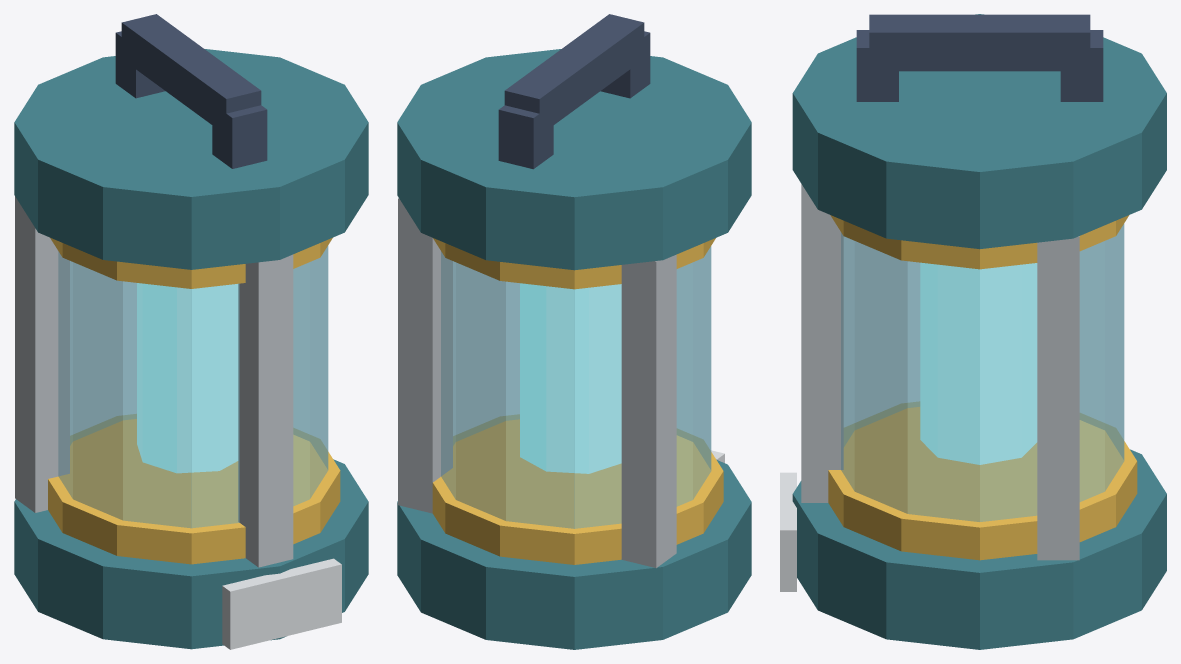
File: standard_capsule.glb
3 renders of one model, left to right at view 1: azimuth 30°, elevation 25°; view 2: azimuth 150°, elevation 25°; view 3: azimuth 270°, elevation 25°, orthographic. The views are drawn at different scales.
Parts seen in each view (by area): view 1: DL004_StandardCapsule_teal_shell, DL004_StandardCapsule_glass_cyan, DL004_StandardCapsule_titanium, DL004_StandardCapsule_amber_accent, DL004_StandardCapsule_emissive_cyan, DL004_StandardCapsule_graphite_navy, DL004_StandardCapsule_hull_offwhite; view 2: DL004_StandardCapsule_teal_shell, DL004_StandardCapsule_glass_cyan, DL004_StandardCapsule_titanium, DL004_StandardCapsule_amber_accent, DL004_StandardCapsule_emissive_cyan, DL004_StandardCapsule_graphite_navy; view 3: DL004_StandardCapsule_teal_shell, DL004_StandardCapsule_glass_cyan, DL004_StandardCapsule_amber_accent, DL004_StandardCapsule_titanium, DL004_StandardCapsule_emissive_cyan, DL004_StandardCapsule_graphite_navy, DL004_StandardCapsule_hull_offwhite.
Part boxes in pixels (x1,y1,x2,y2): DL004_StandardCapsule_teal_shell: (14,49,368,649); DL004_StandardCapsule_glass_cyan: (58,245,328,528); DL004_StandardCapsule_titanium: (15,196,293,567); DL004_StandardCapsule_amber_accent: (48,237,340,564); DL004_StandardCapsule_emissive_cyan: (137,283,238,473); DL004_StandardCapsule_graphite_navy: (115,14,267,168); DL004_StandardCapsule_hull_offwhite: (222,558,341,649); DL004_StandardCapsule_teal_shell: (397,49,751,649); DL004_StandardCapsule_glass_cyan: (441,246,711,528); DL004_StandardCapsule_titanium: (398,198,676,568); DL004_StandardCapsule_amber_accent: (432,238,723,564); DL004_StandardCapsule_emissive_cyan: (520,283,621,473); DL004_StandardCapsule_graphite_navy: (498,14,650,169); DL004_StandardCapsule_teal_shell: (792,14,1166,649); DL004_StandardCapsule_glass_cyan: (841,223,1124,521); DL004_StandardCapsule_amber_accent: (828,215,1137,560); DL004_StandardCapsule_titanium: (801,184,1079,560); DL004_StandardCapsule_emissive_cyan: (920,262,1037,464); DL004_StandardCapsule_graphite_navy: (856,14,1103,101); DL004_StandardCapsule_hull_offwhite: (780,472,796,591).
Size of the model in its own units: 0.44 by 0.71 by 0.455.
